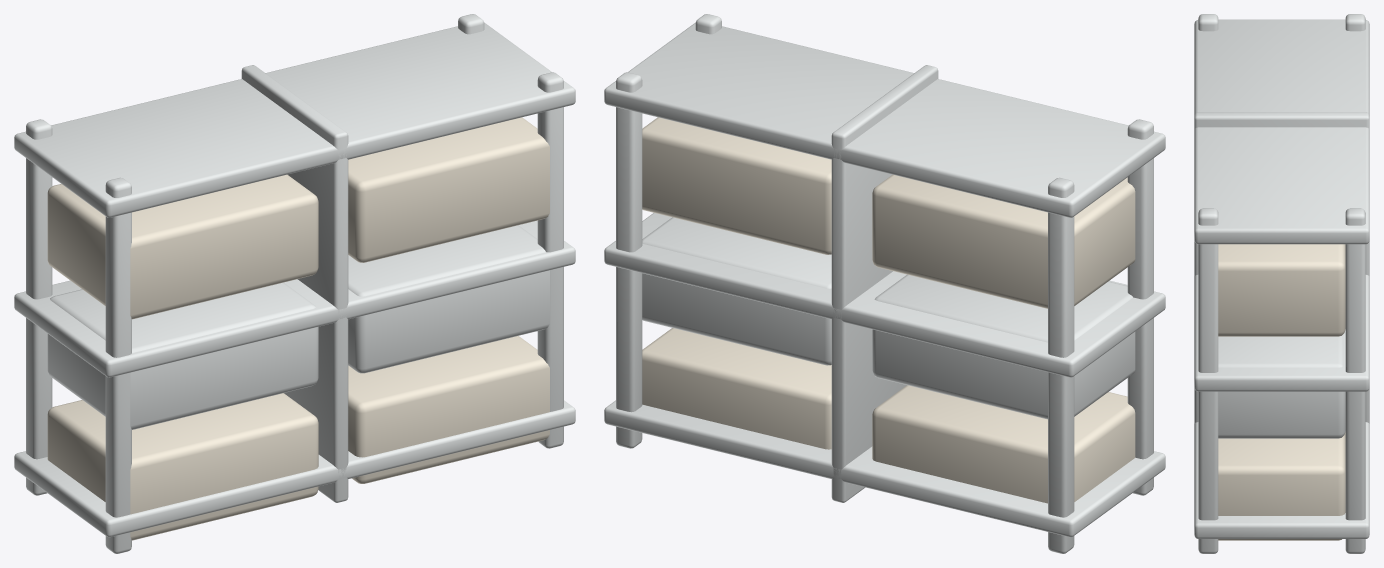
Rendered from toy-organizer.glb.
3 views of the same model, side by side, from view 1: azimuth 30°, elevation 25°; view 2: azimuth 150°, elevation 25°; view 3: azimuth 270°, elevation 25° (orthographic). The views are drawn at different scales.
Parts seen in each view (by area): view 1: catalog_surface_RealismUV; view 2: catalog_surface_RealismUV; view 3: catalog_surface_RealismUV.
Boxes of the visible parts, left/top/right/bottom form: catalog_surface_RealismUV: left=14, top=14, right=575, bottom=553; catalog_surface_RealismUV: left=604, top=14, right=1165, bottom=553; catalog_surface_RealismUV: left=1194, top=14, right=1369, bottom=553.
Bounding box in the file's own units: 1 × 0.75 × 0.35.
